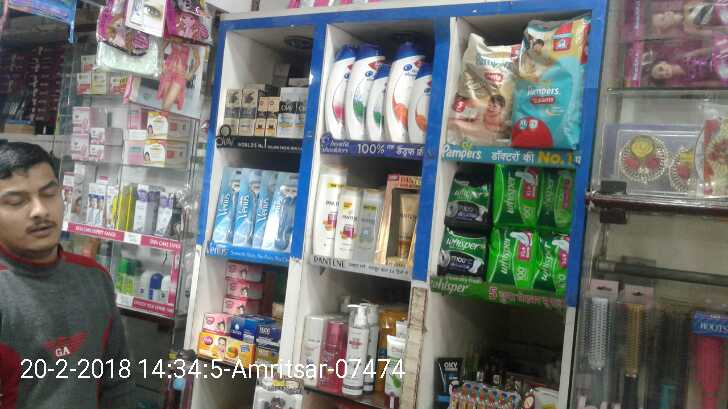venus: (272, 170, 297, 252), (238, 172, 259, 239), (219, 168, 238, 239), (259, 172, 272, 252)
